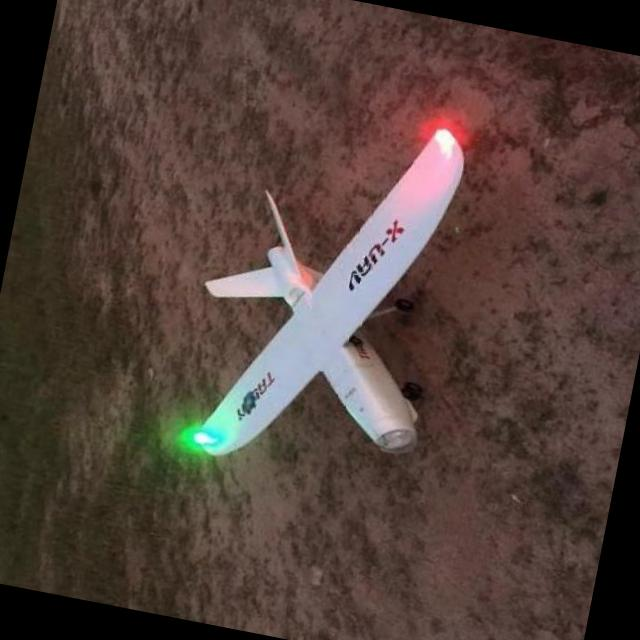UAV: (199, 114, 480, 500)
